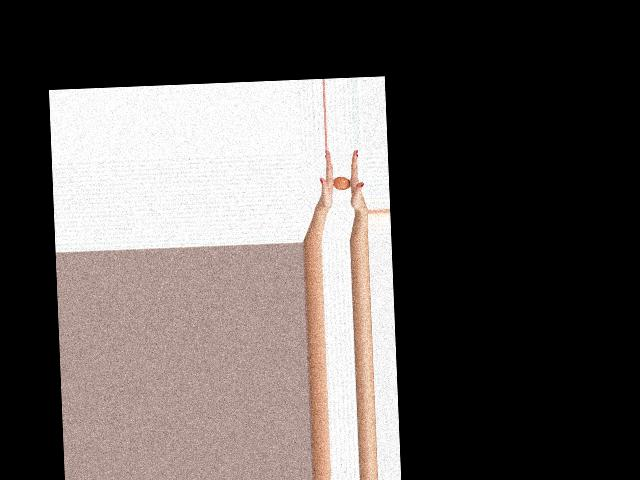egg: (332, 177, 350, 190)
